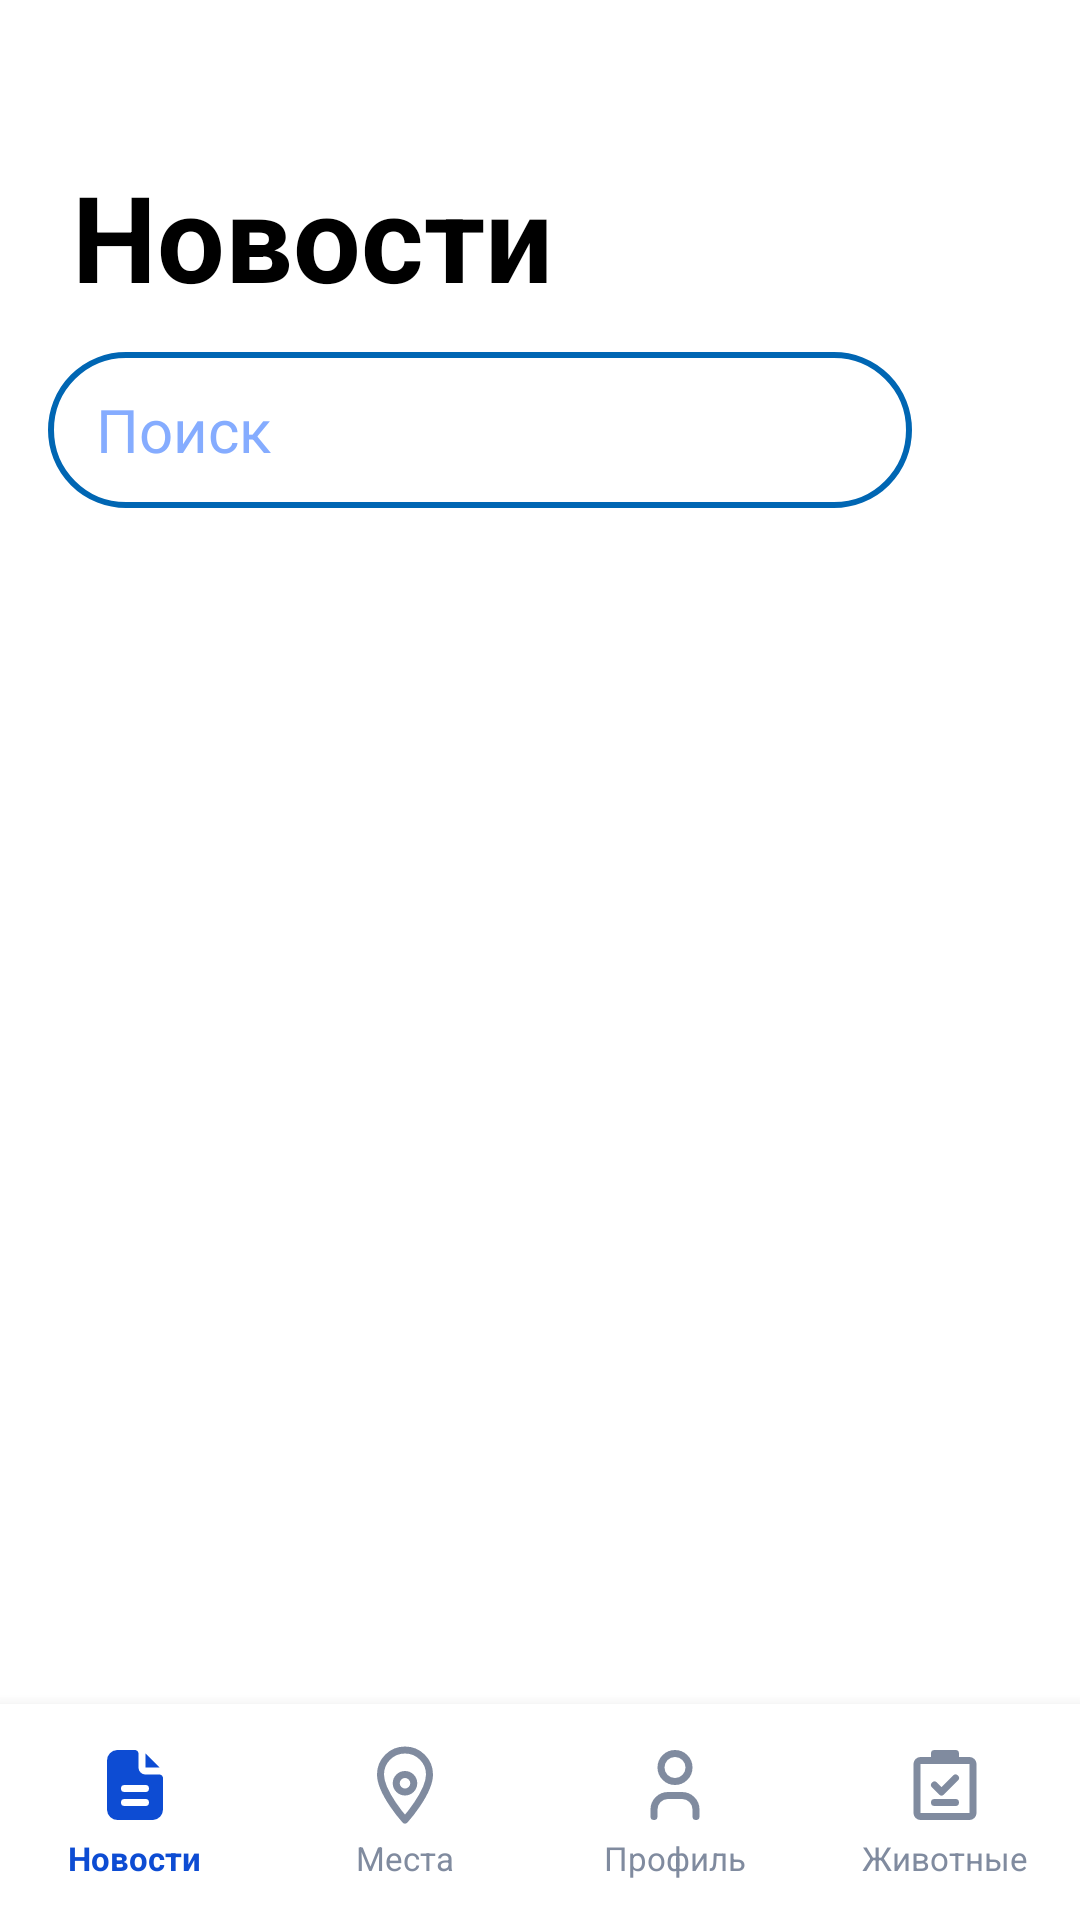

Locate icon controls on the screen. Image size 1080px×1920px, boxes as box(x1, y1, x2, y2).
survey: box(913, 1750, 977, 1820)
